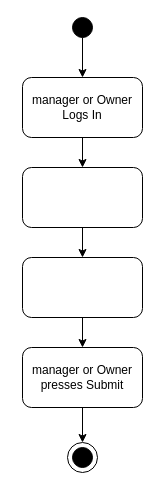
Some shapes in this 164 by 490 pixel diagram are drawn without their labels. Each missing label, with the centre of its shape:
manager or Owner Clicks on "Transaction History": the point at 82,197
manager or Owner Finds Relevant Transaction: the point at 82,287
